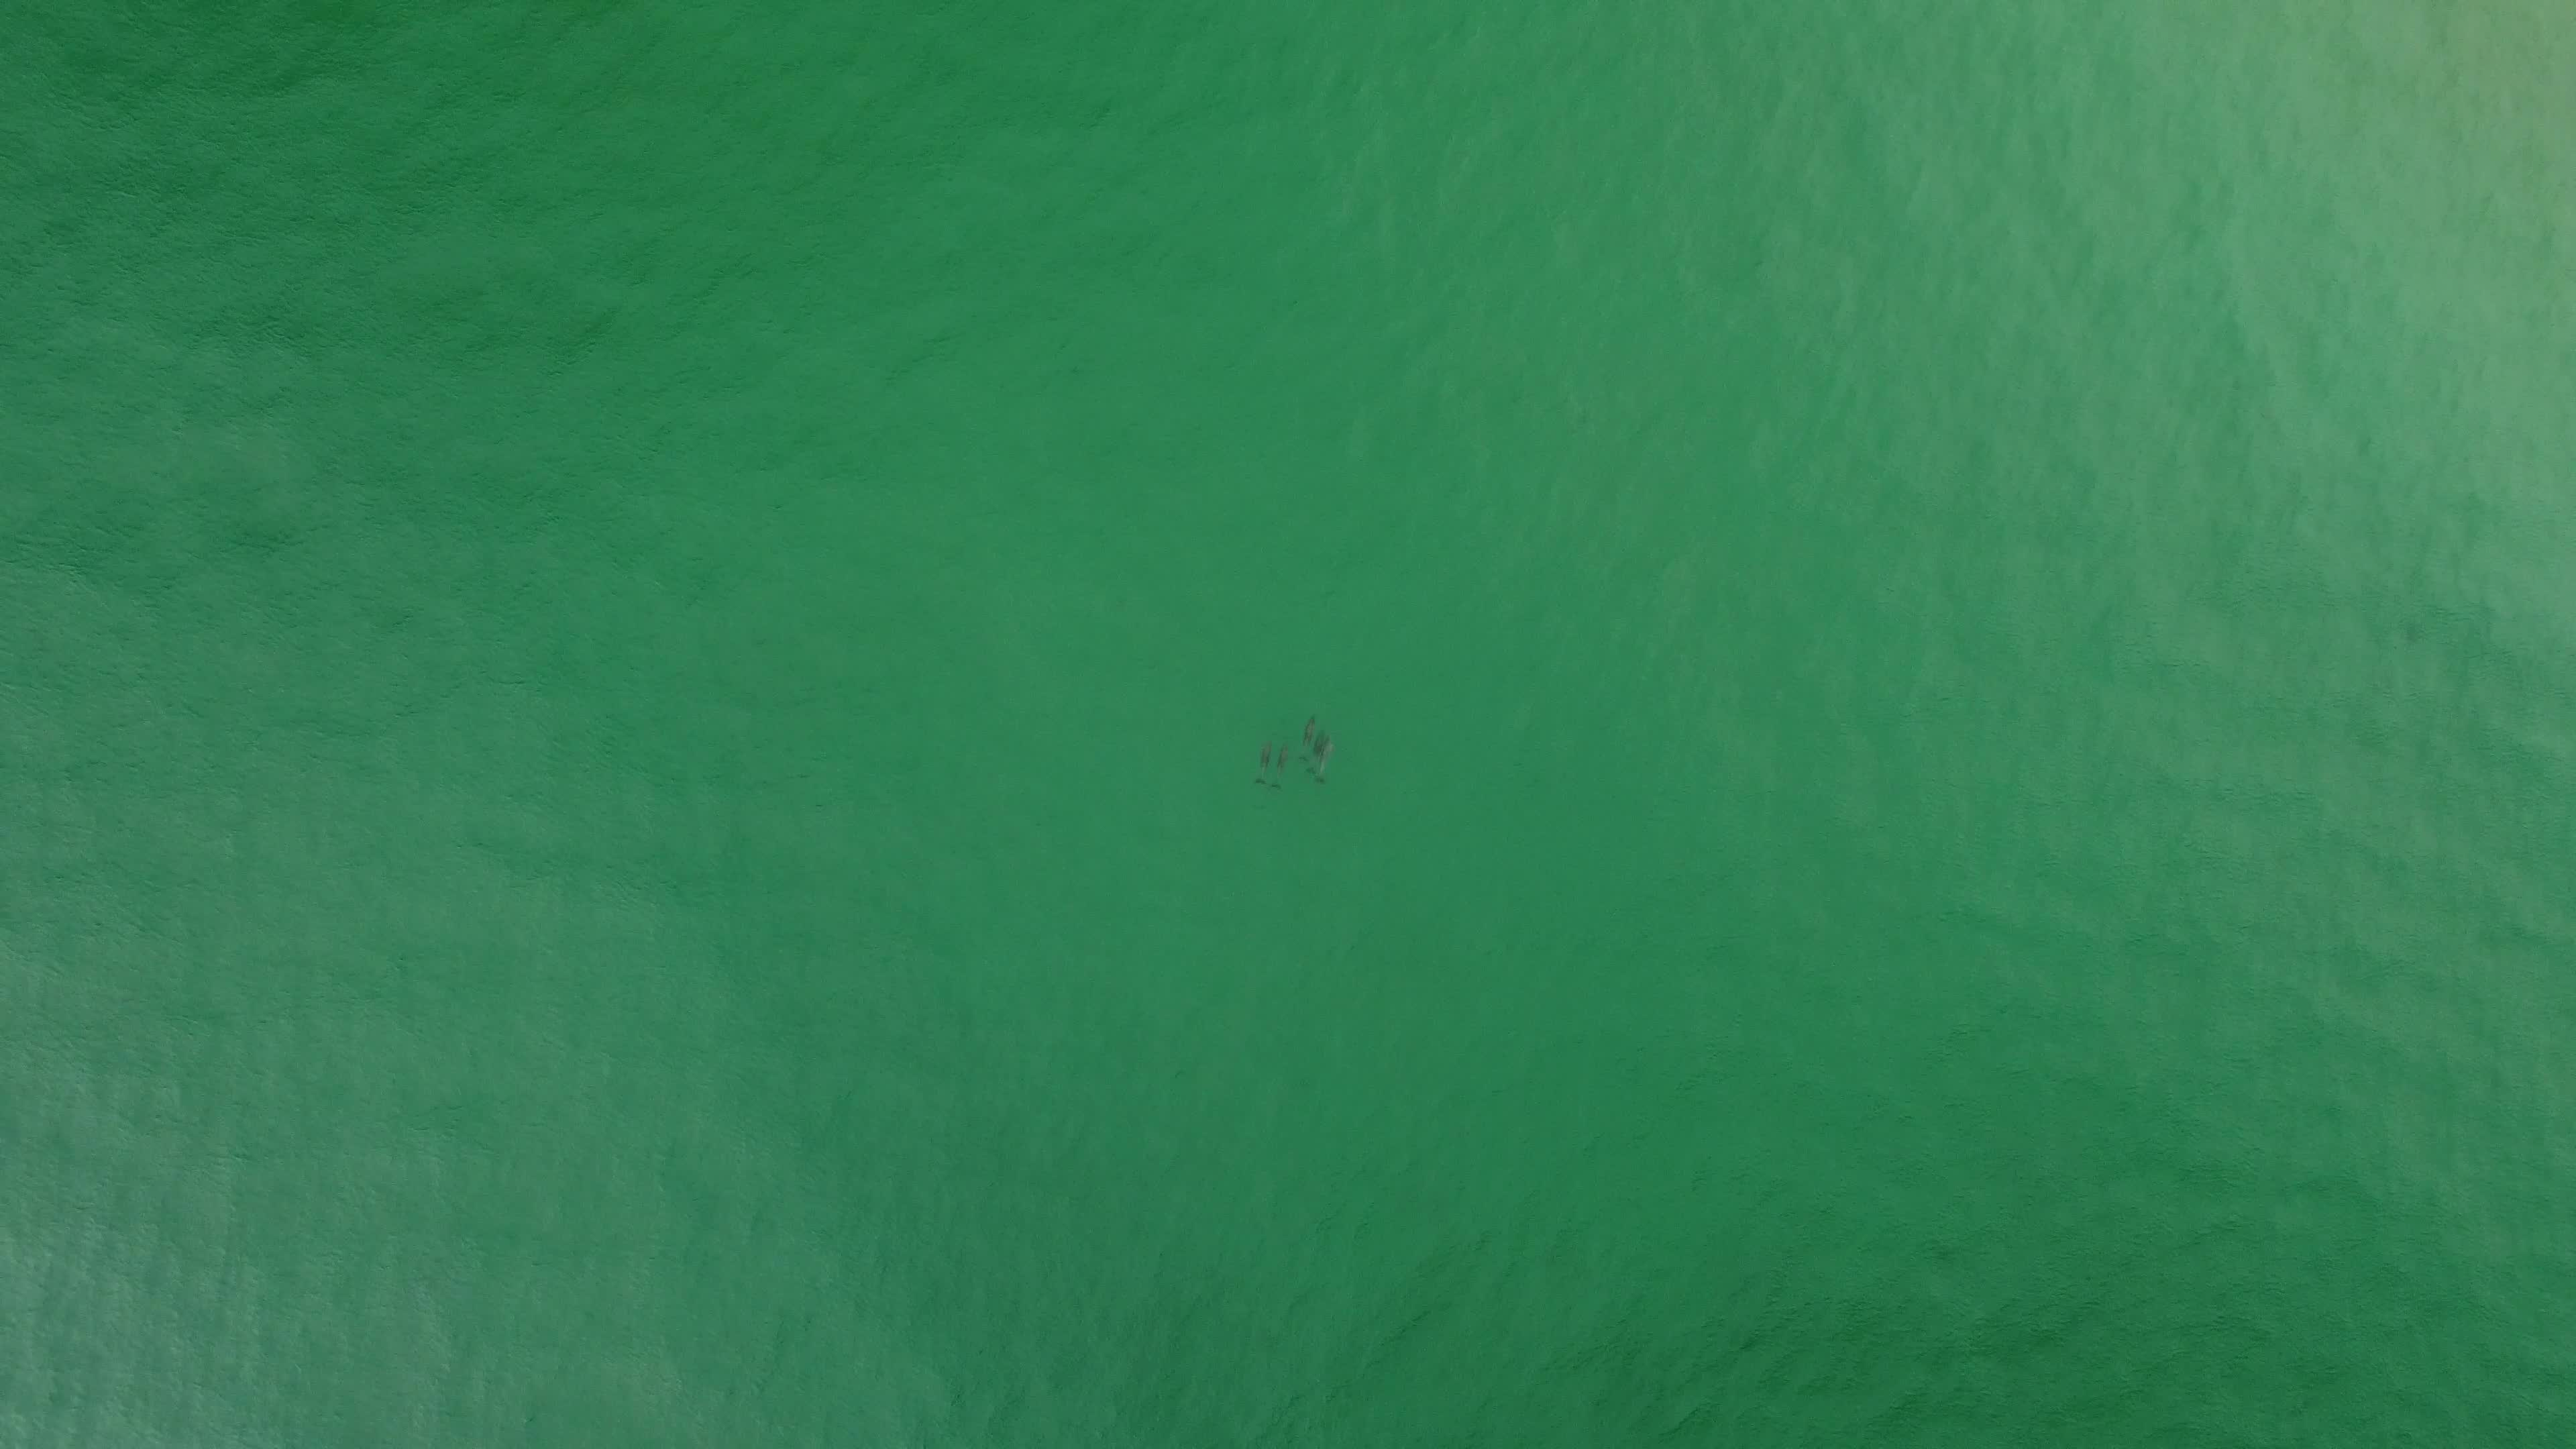dolphin: (1313, 722, 1336, 787), (1272, 732, 1290, 810), (1297, 709, 1316, 768), (1254, 736, 1274, 789)
